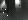person: (1, 1, 10, 14), (16, 2, 22, 12)
